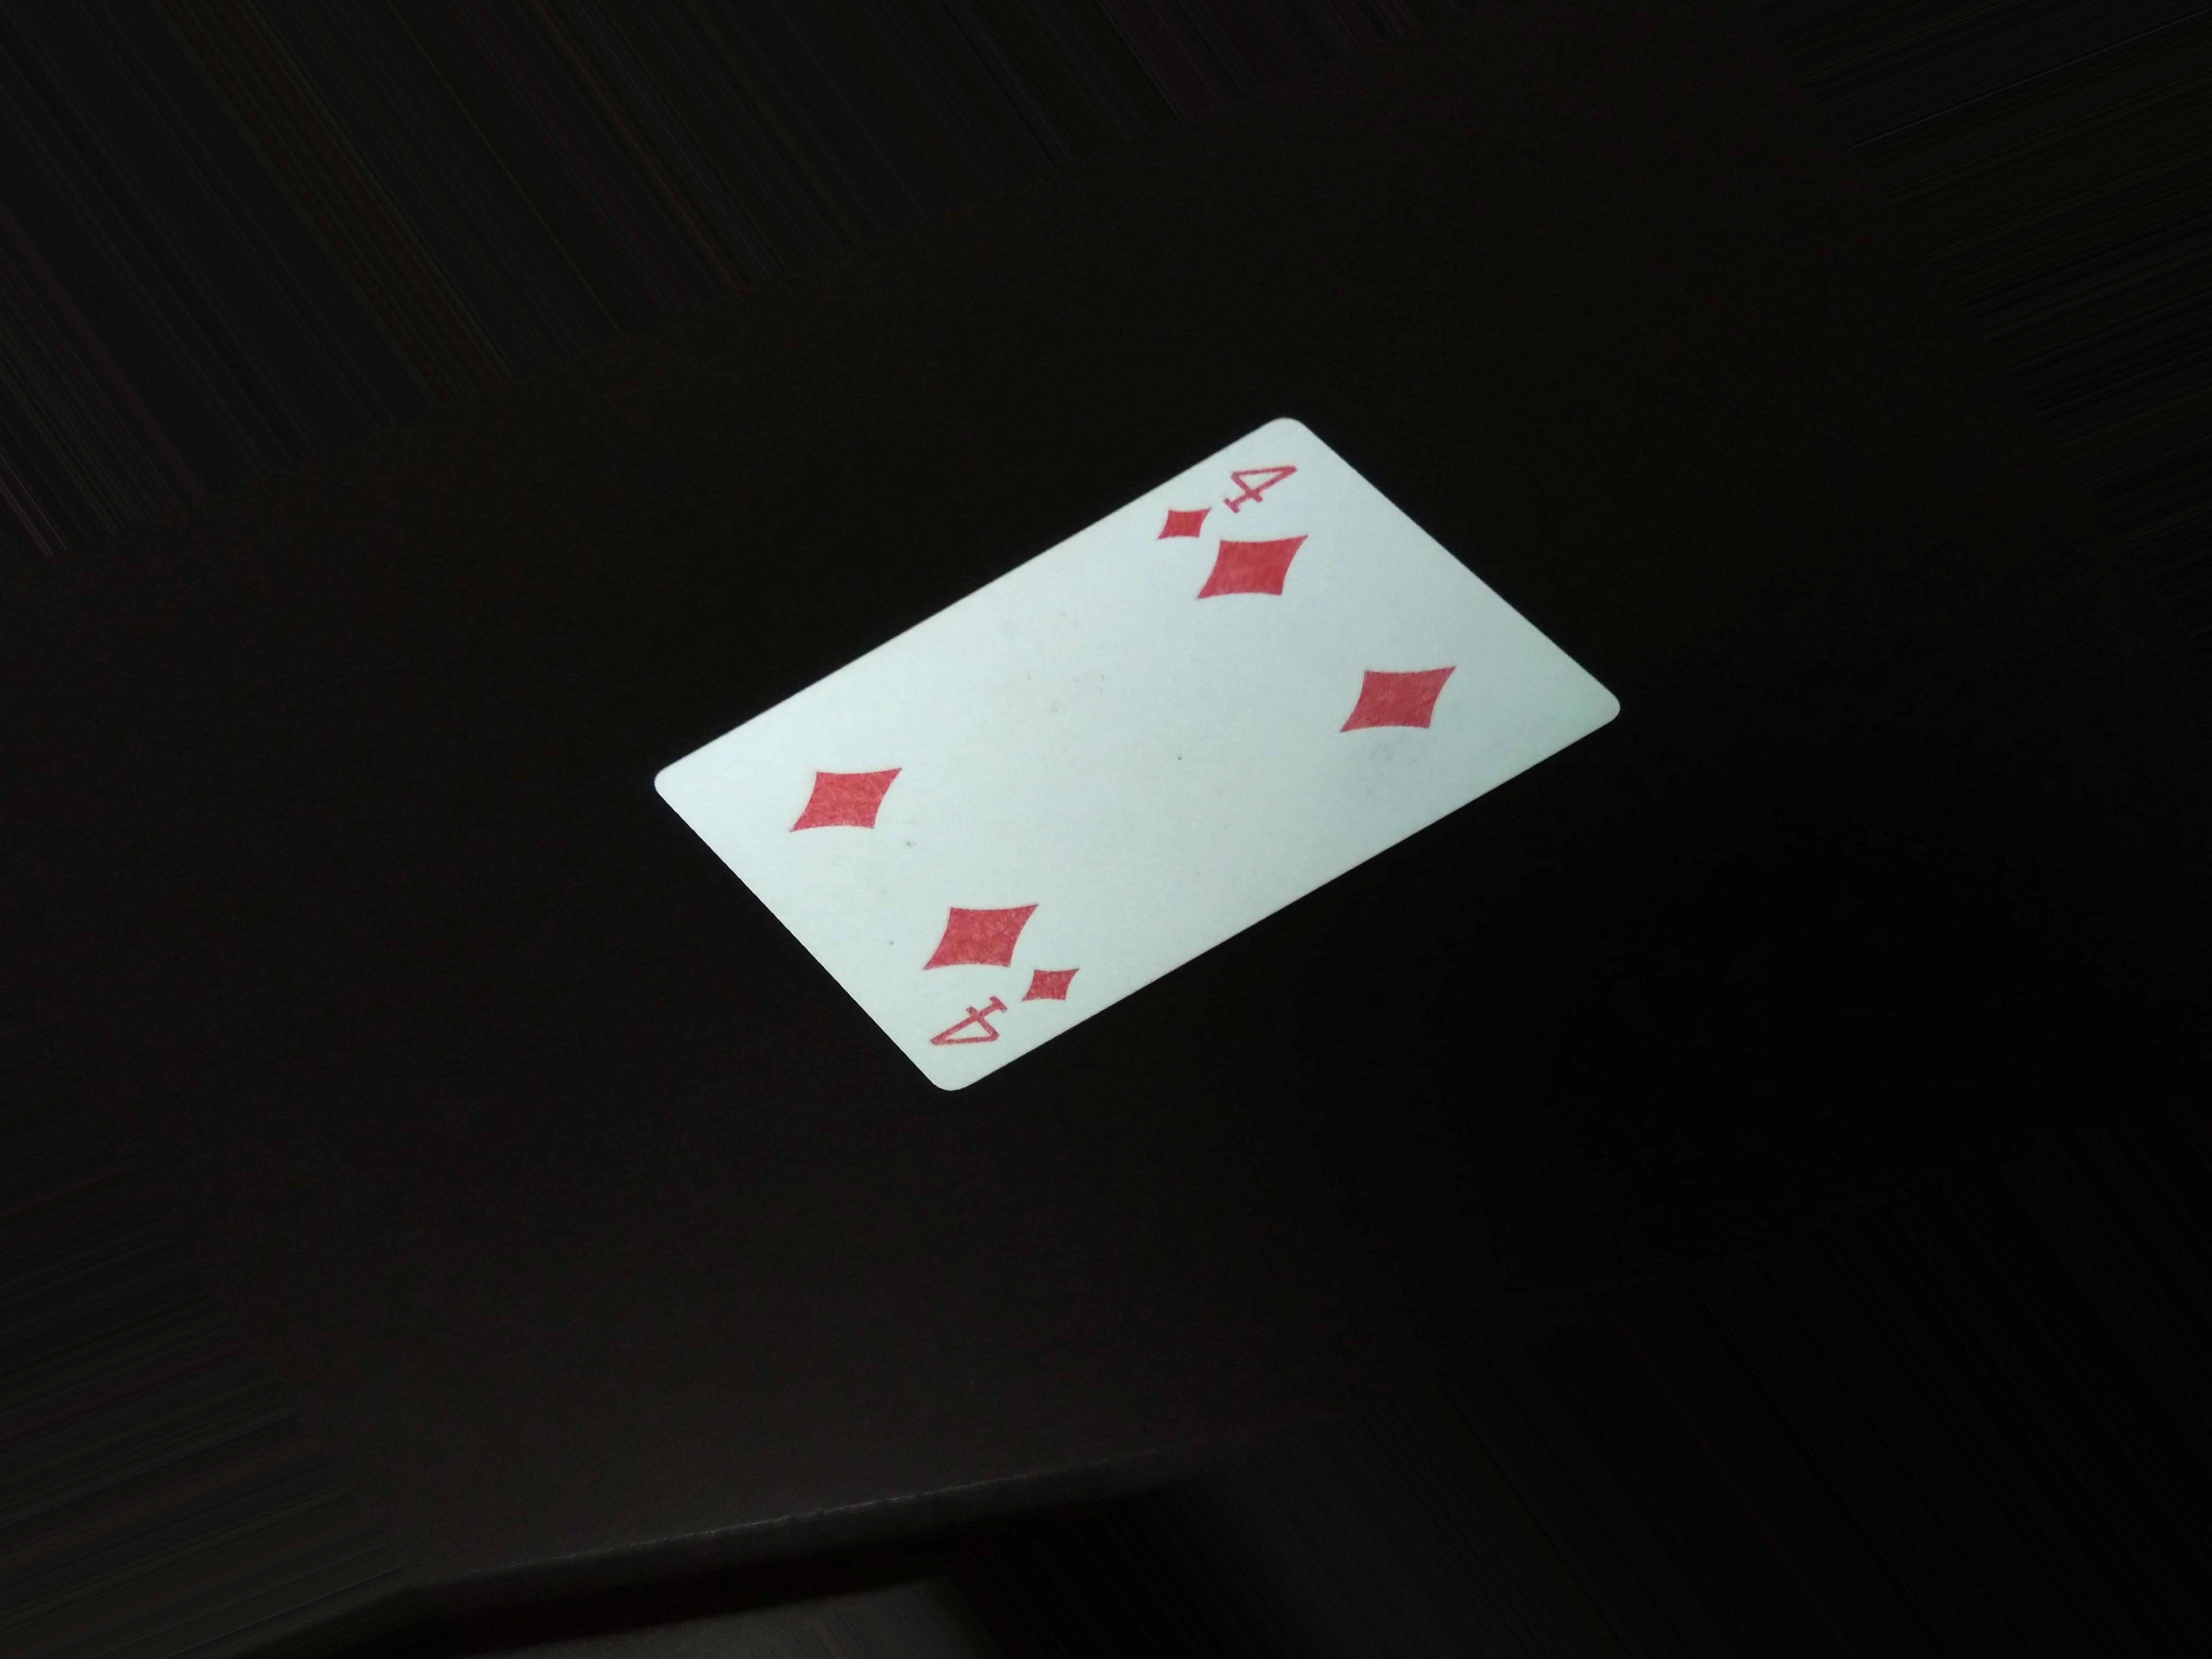4D: (1139, 444, 1299, 556)
